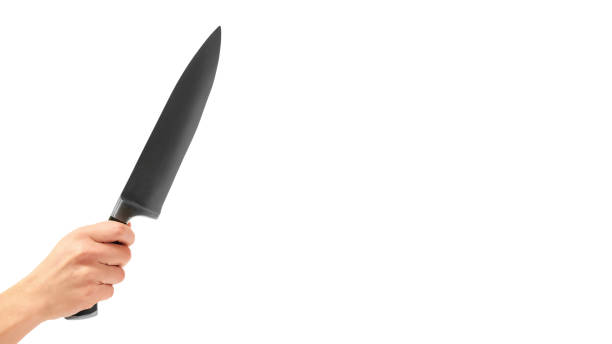knife: (66, 24, 222, 322)
